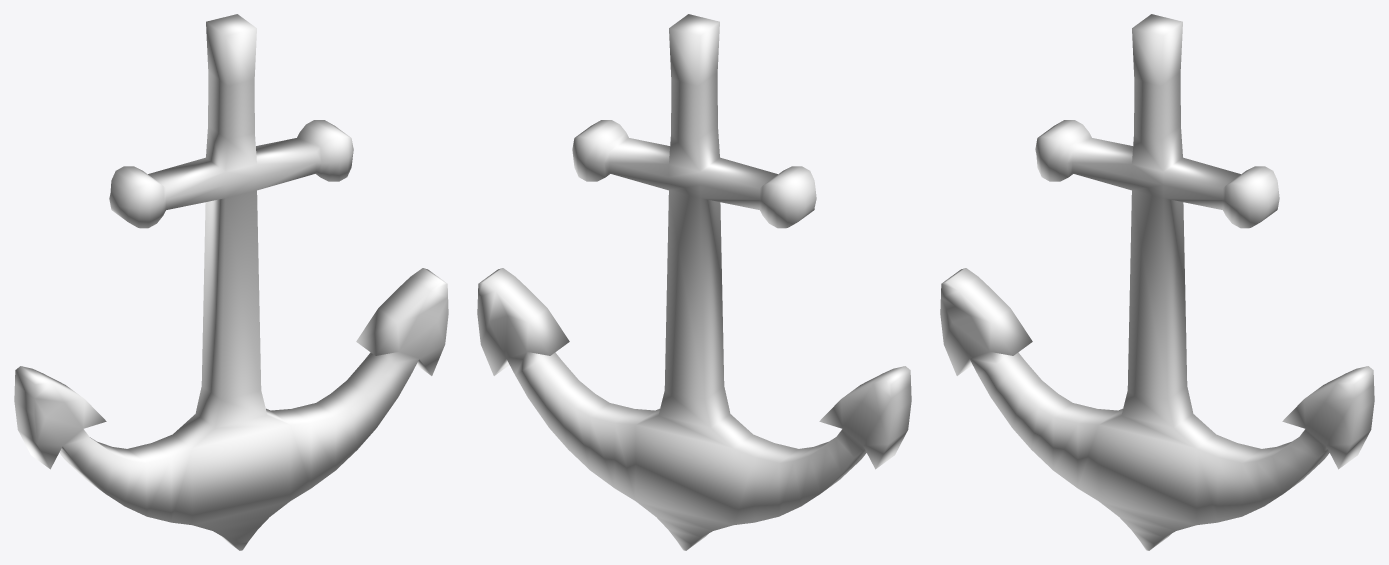
Rendered from Yakor.fbx.
3 views of the same model, side by side, from view 1: azimuth 30°, elevation 25°; view 2: azimuth 150°, elevation 25°; view 3: azimuth 330°, elevation 25° (orthographic).
Parts seen in each view (by area): view 1: Yakor; view 2: Yakor; view 3: Yakor.
Boxes of the visible parts, x1,y1,x2,y2 form: Yakor: (14, 14, 448, 550); Yakor: (477, 14, 911, 550); Yakor: (940, 14, 1374, 550).
Bounding box in the file's own units: 2.08 × 2.48 × 0.2393.
